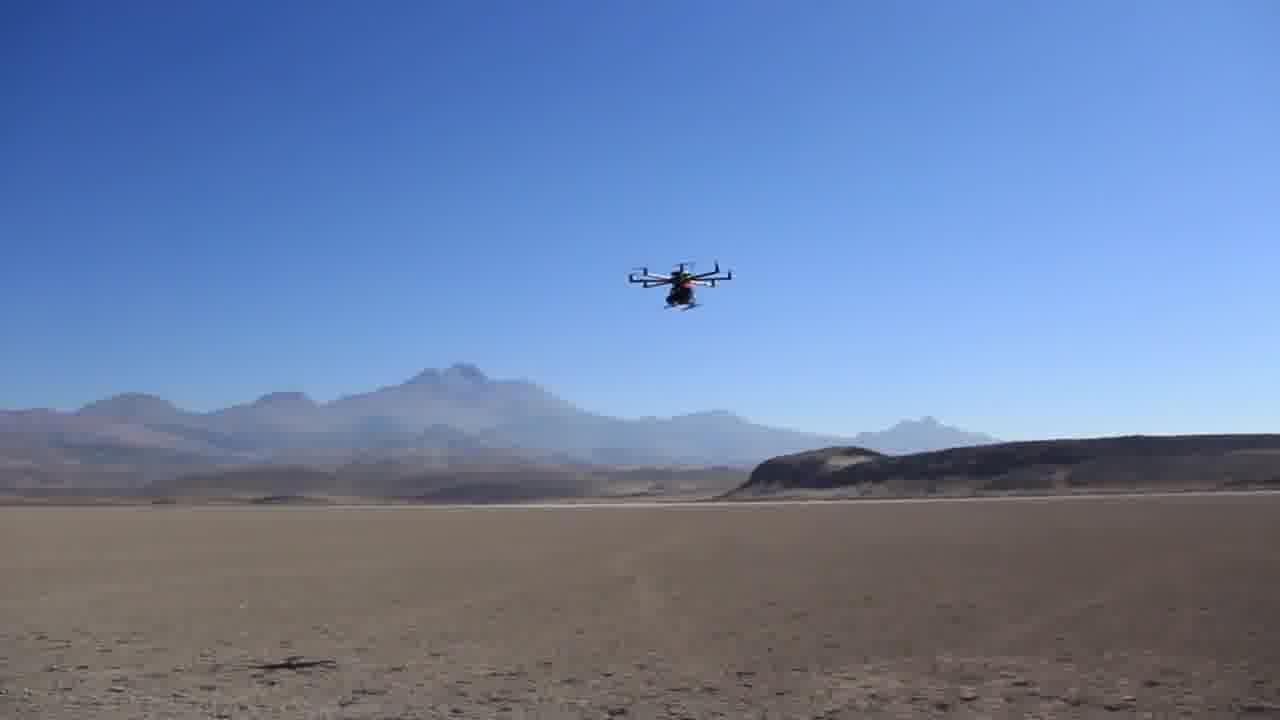drone: (624, 255, 735, 317)
